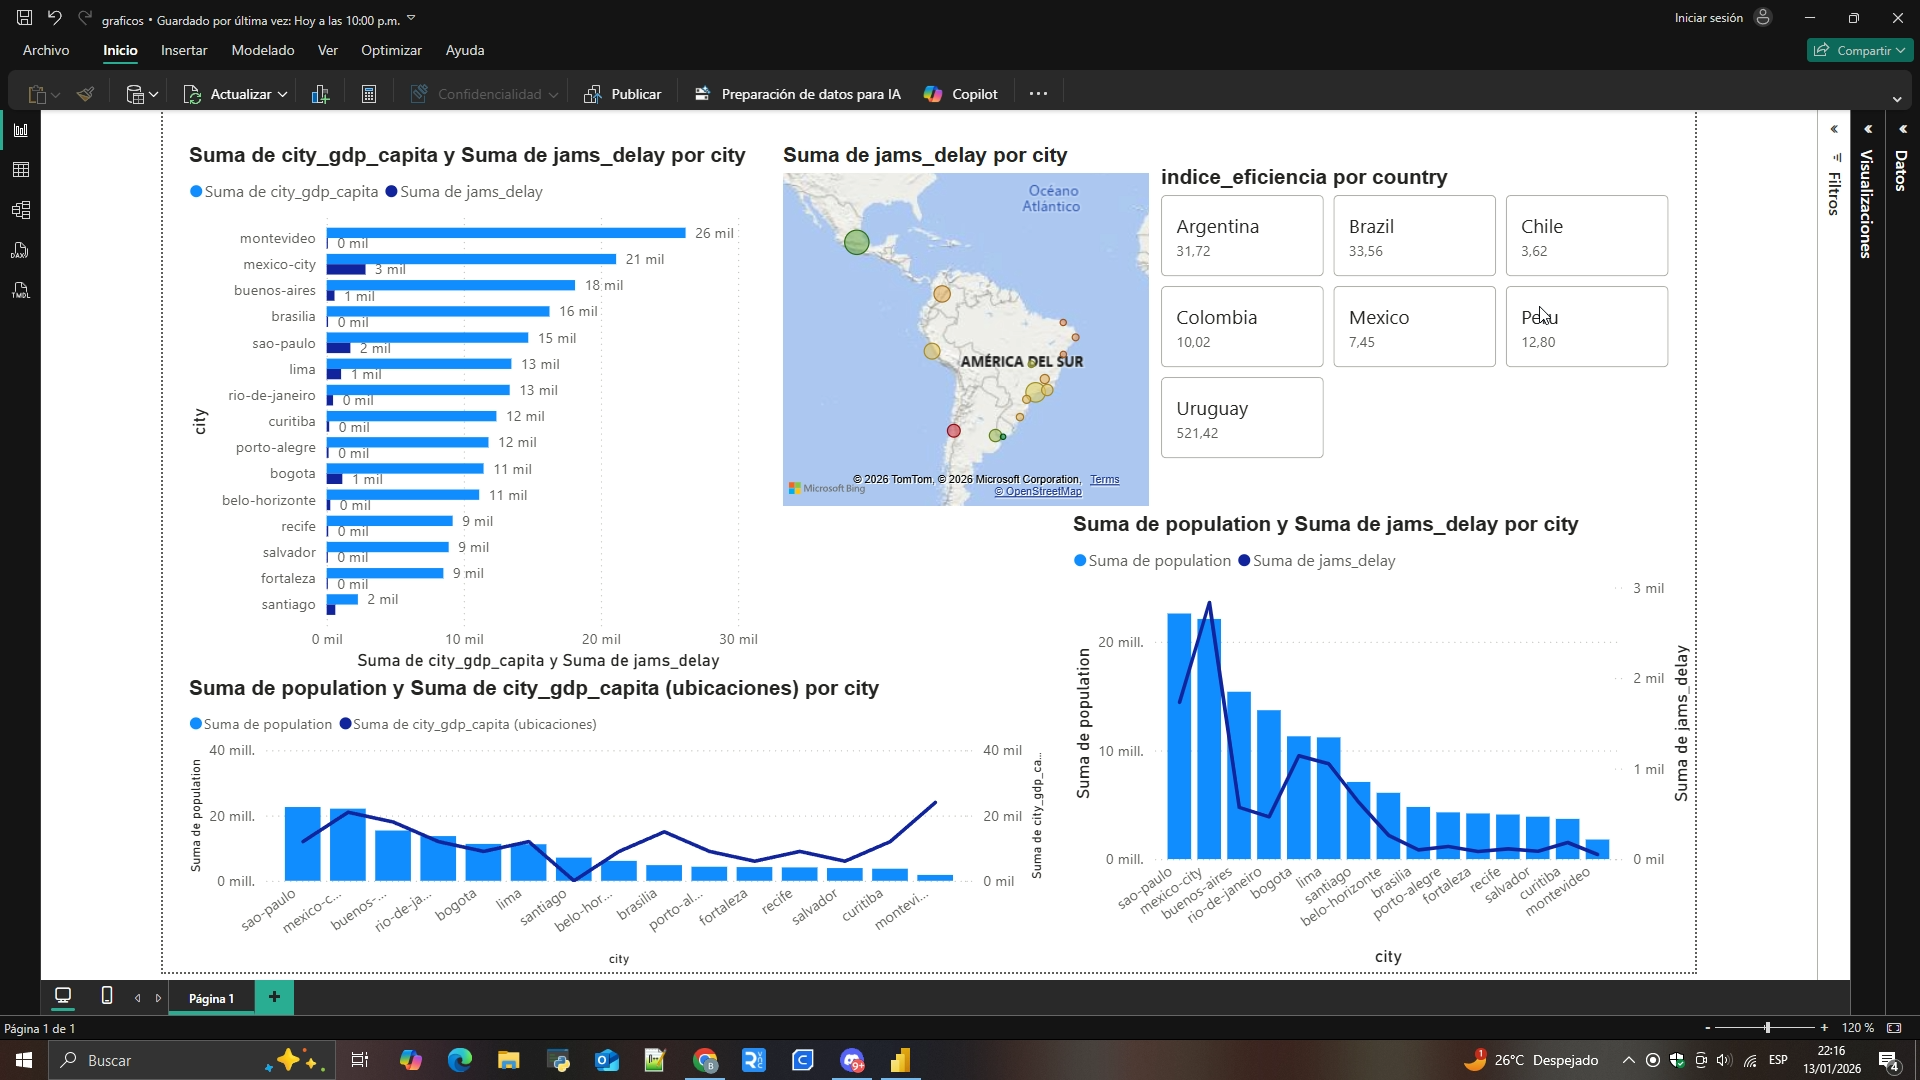

The page's visual inventory and layout, read from the dashboard file:
{"tool":"powerbi","page":{"name":"Página 1","canvas":[1280,720],"ordinal":0},"visuals":[{"type":"clusteredBarChart","title":"Relación PIB vs. Congestión","fields":{"Category":["movilidad_economica_final.city"],"Y":["Sum(movilidad_economica_final.city_gdp_capita)","Sum(movilidad_economica_final.jams_delay)"]},"box":[22.4,70.7,432.1,401.9],"z":0},{"type":"lineStackedColumnComboChart","title":"Densidad Poblacional vs. Retrasos","fields":{"Category":["movilidad_economica_final.city"],"Y":["Sum(movilidad_economica_final.population)"],"Y2":["Sum(movilidad_economica_final.jams_delay)"]},"box":[800.4,400.2,463.2,320],"z":1000},{"type":"lineStackedColumnComboChart","title":"Relación PIB vs. Densidad poblacional","fields":{"Category":["movilidad_economica_final.city"],"Y2":["Sum(movilidad_economica_final.city_gdp_capita (ubicaciones))"],"Y":["Sum(movilidad_economica_final.population)"]},"box":[22.8,479.8,771.3,230.3],"z":2000},{"type":"advancedSlicerVisual","title":"Indice de ingresos/congestión","fields":{"Values":["movilidad_economica_final.country"],"Label":["movilidad_economica_final.indice_eficiencia"]},"box":[800.2,70.9,463.1,296.8],"z":3000},{"type":"map","fields":{"Category":["movilidad_economica_final.city"],"Size":["Sum(movilidad_economica_final.jams_delay)"]},"box":[461.4,70.9,332.7,392.2],"z":4000},{"type":"textbox","title":"Análisis de Impacto Económico: Movilidad Urbana 2024","box":[336.6,19.2,702.5,37.6],"z":5000}]}

Visuals, with their boxes on the page's 1280x720 design canvas (x1, y1, x2, y2). These are canvas units, not pixel positions in the 1920x1080 screenshot, which may show the page scaled, cropped or inside an application window:
"Relación PIB vs. Congestión" clusteredBarChart: (22,71,454,473)
"Densidad Poblacional vs. Retrasos" lineStackedColumnComboChart: (800,400,1264,720)
"Relación PIB vs. Densidad poblacional" lineStackedColumnComboChart: (23,480,794,710)
"Indice de ingresos/congestión" advancedSlicerVisual: (800,71,1263,368)
map - movilidad_economica_final.city x Sum(movilidad_economica_final.jams_delay): (461,71,794,463)
"Análisis de Impacto Económico: Movilidad Urbana 2024" textbox: (337,19,1039,57)
